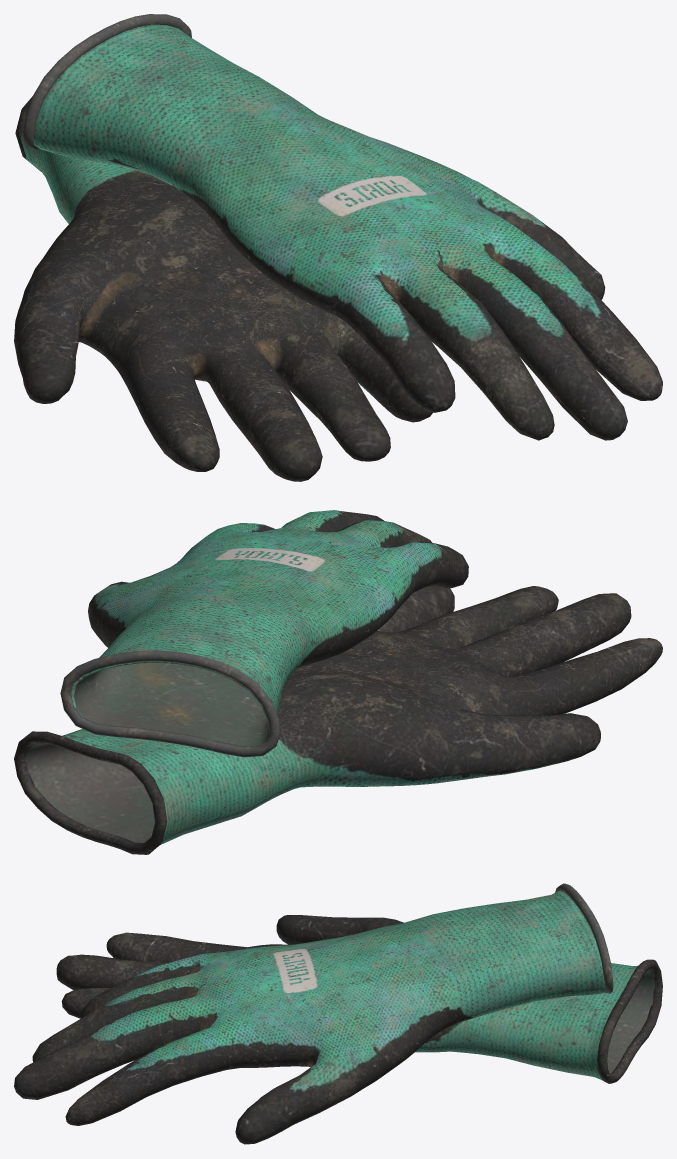
The model's file is GardenGloves.obj.
3 renders of one model, top to bottom at view 1: azimuth 30°, elevation 25°; view 2: azimuth 150°, elevation 25°; view 3: azimuth 270°, elevation 25°, orthographic. The views are drawn at different scales.
Visible parts, largest first — view 1: garden_gloves_01_0; view 2: garden_gloves_01_0; view 3: garden_gloves_01_0.
Part boxes in pixels (x1,y1,x2,y2): garden_gloves_01_0: (14,14,662,481); garden_gloves_01_0: (14,510,662,854); garden_gloves_01_0: (14,883,662,1144).
Size of the model in its own units: 0.2266 by 0.076 by 0.299.
1 material, 1 textured.
